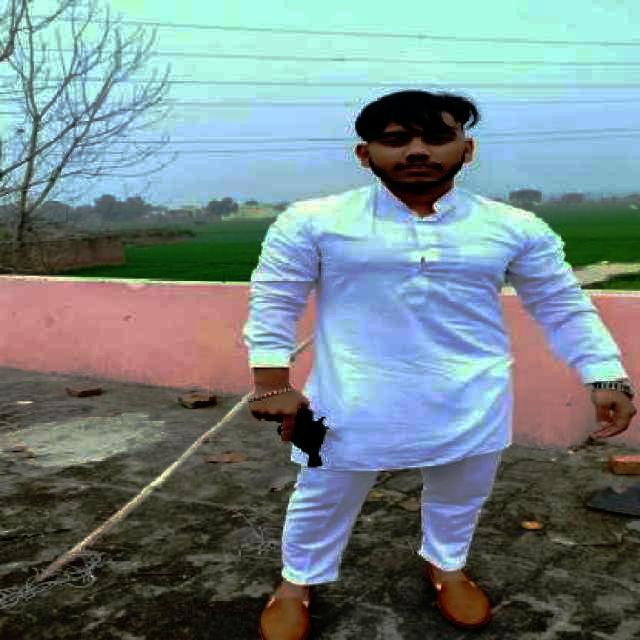Gun: (268, 396, 334, 478)
